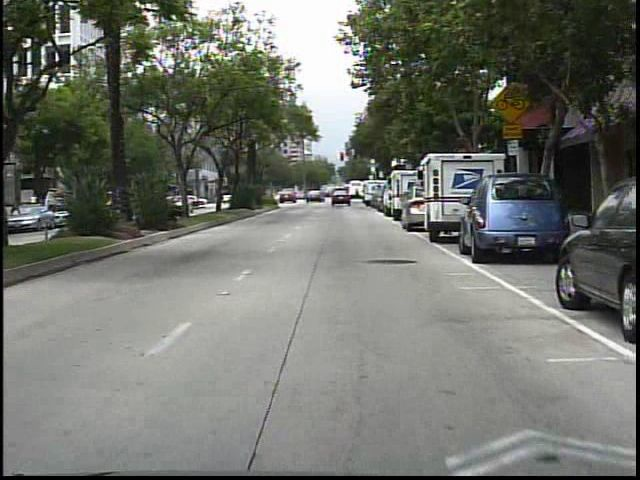person: (354, 183, 362, 204)
